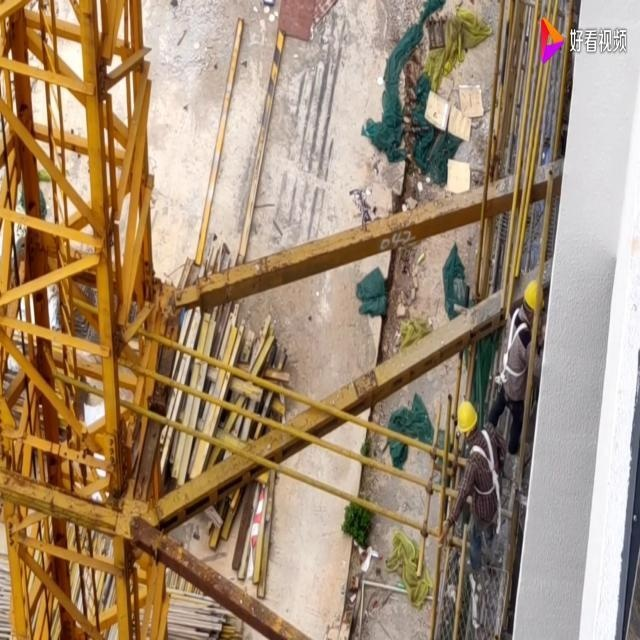Arnes_seguridad: (468, 426, 501, 500), (500, 302, 530, 380)
